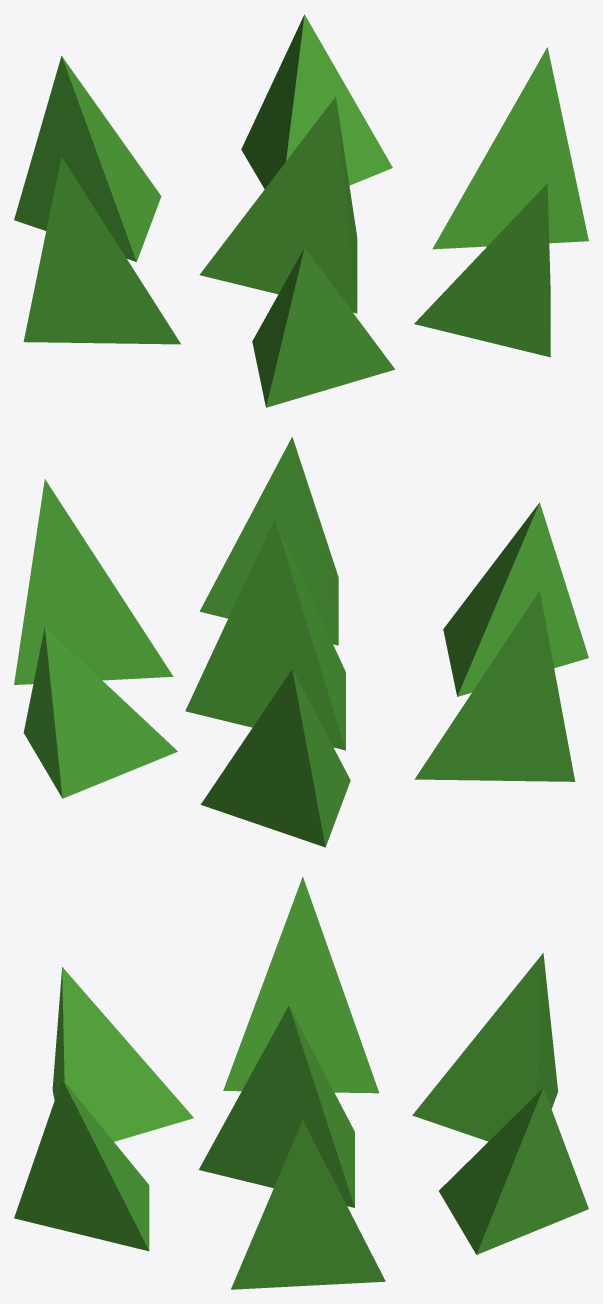
Rendered from lawn.glb.
The picture shows the model from 3 angles, top to bottom: view 1: azimuth 30°, elevation 25°; view 2: azimuth 150°, elevation 25°; view 3: azimuth 270°, elevation 25°; orthographic projection. The views are drawn at different scales.
Parts seen in each view (by area): view 1: crop; view 2: crop; view 3: crop.
Part boxes in pixels (x1,y1,x2,y2): crop: (14,14,588,407); crop: (14,437,588,847); crop: (14,876,588,1289).
Size of the model in its own units: 0.4341 by 0.14 by 0.4139.
